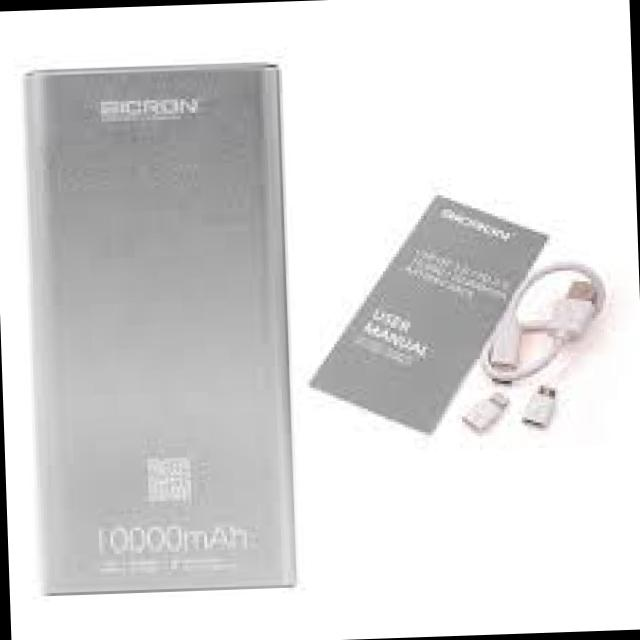portable-charger: (20, 61, 306, 602)
